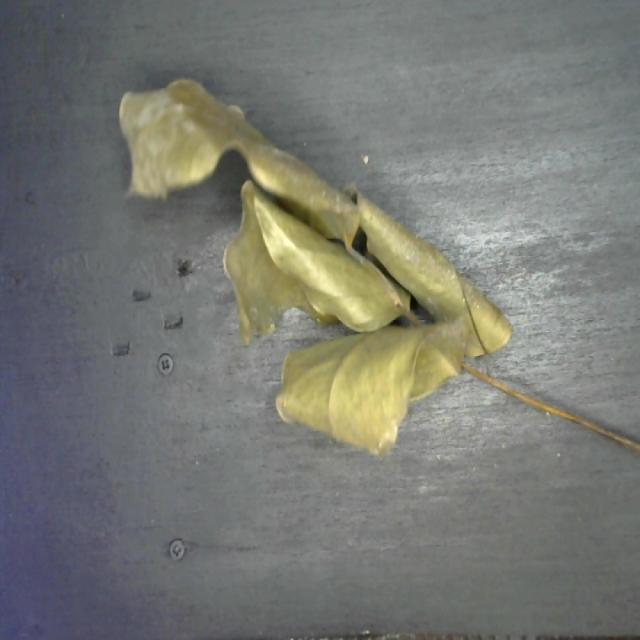biodegradable: (113, 61, 513, 462)
